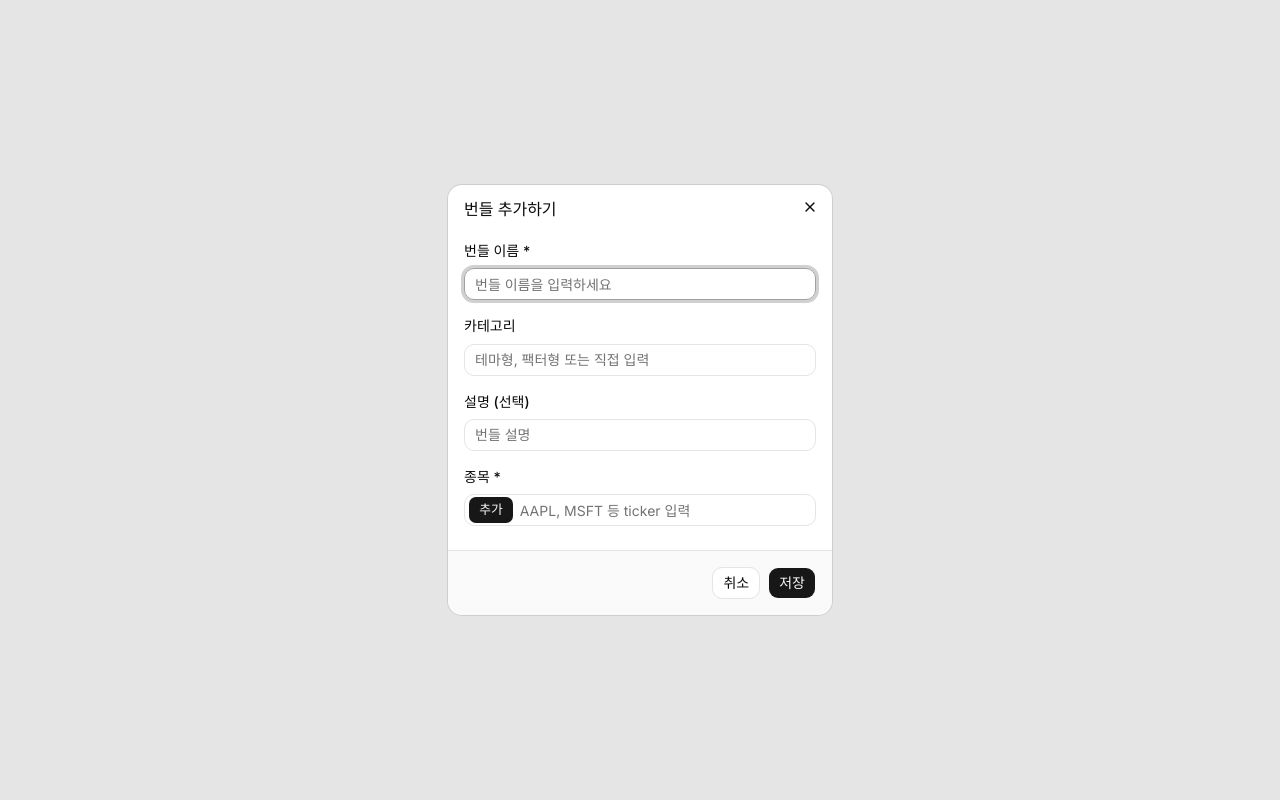
Scenario: CreateBundleDialog — 유효성 검사 › 종목이 1개 이하면 저장하면 안내 메시지가 표시된다
Type "내 번들" into the field with placeholder "번들 이름을 입력하세요" at (640, 284), box [464, 268, 816, 300]
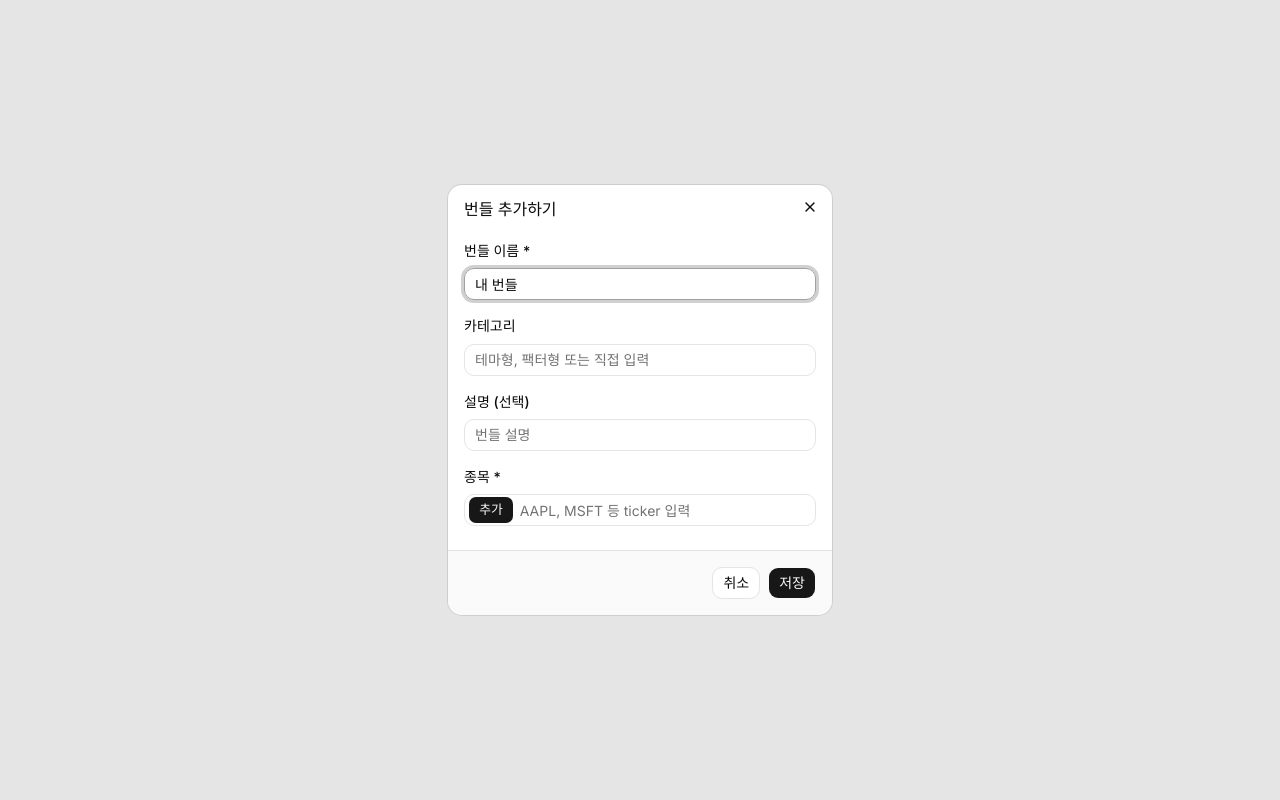
# 종목 1개 추가
Type "NVDA" into the field with placeholder "AAPL, MSFT 등 ticker 입력" at (664, 510), box [514, 494, 815, 526]
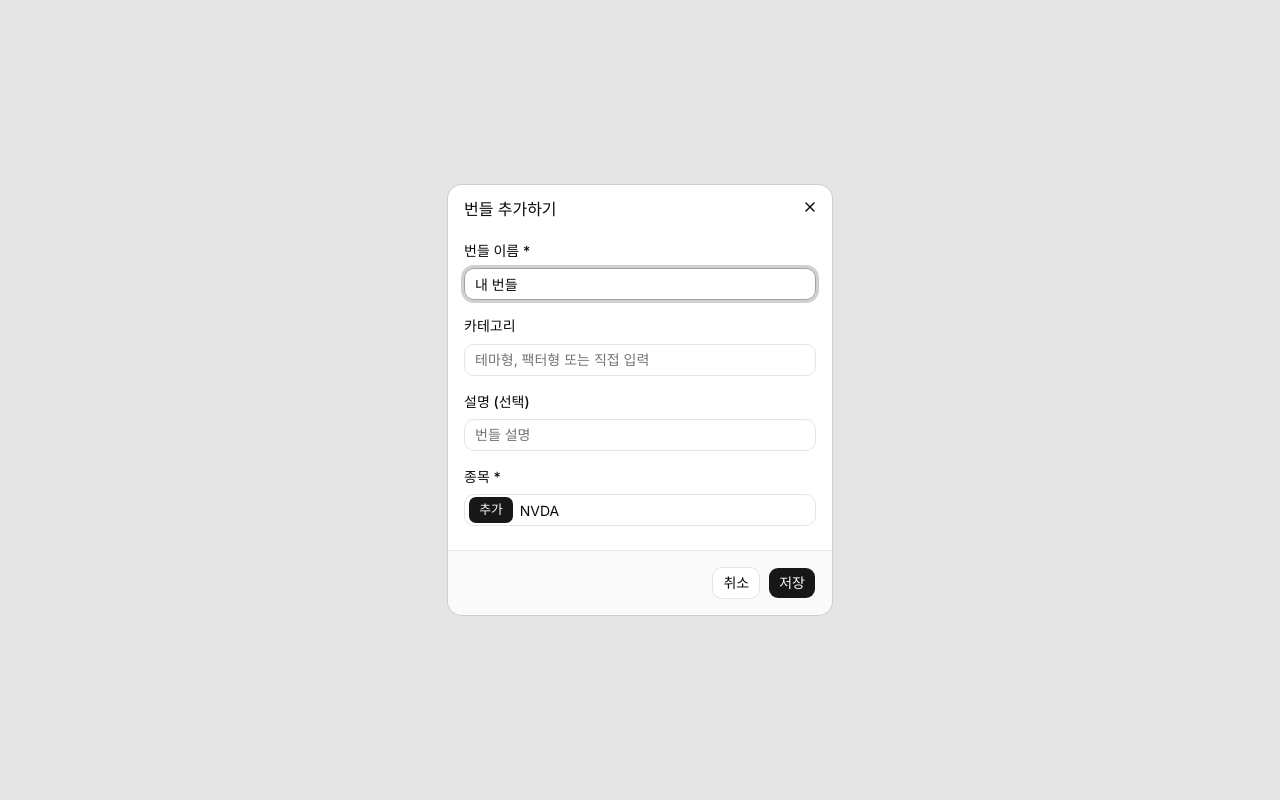
Click the button "추가" at (491, 510), box [468, 496, 514, 524]
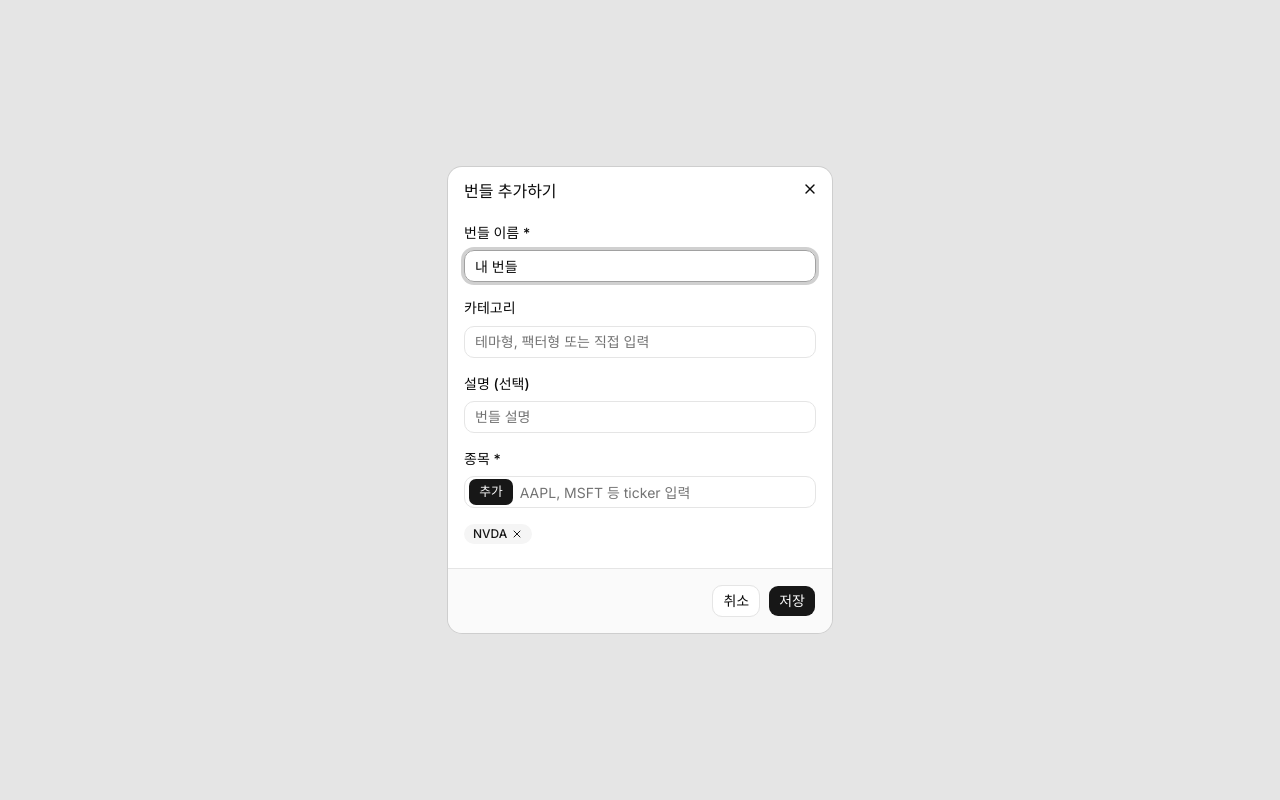
Click the button "저장" at (792, 601), box [768, 585, 816, 617]
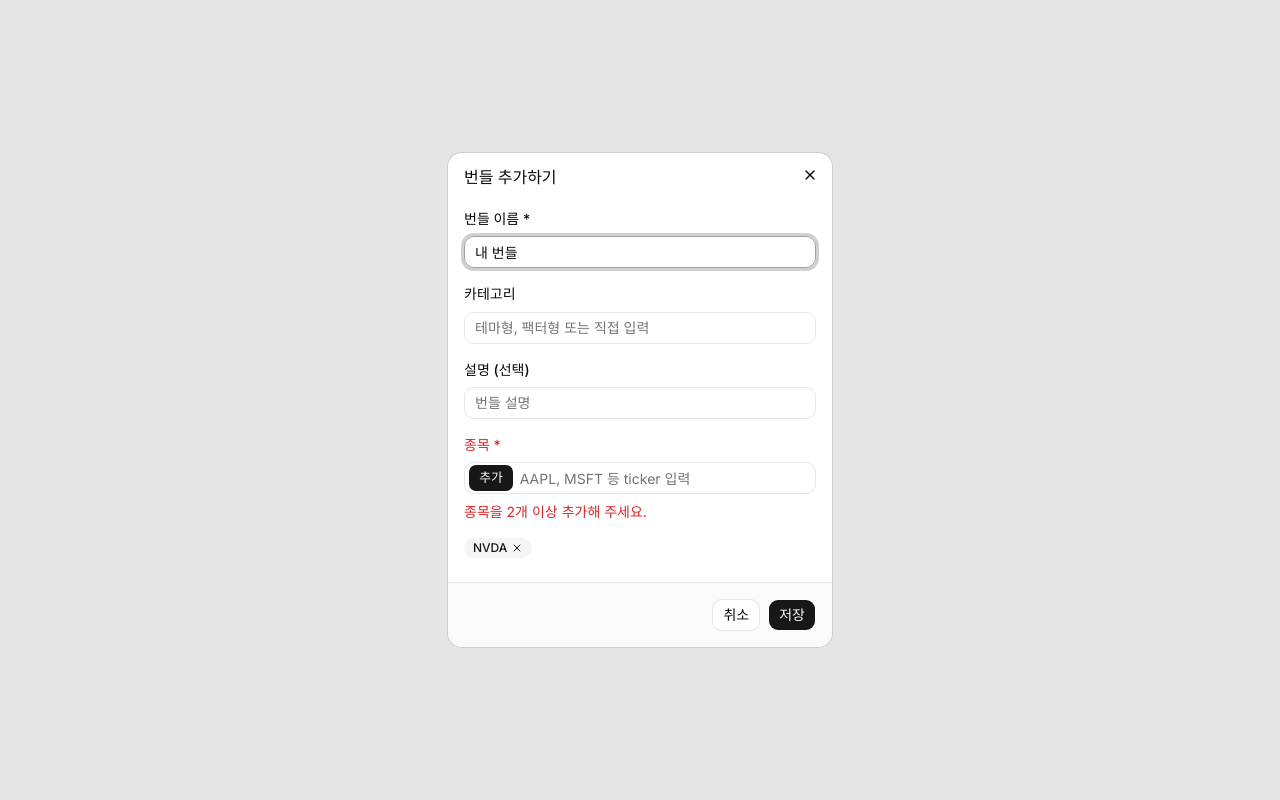
Check: the text "종목을 2개 이상 추가해 주세요." is shown, box [464, 503, 647, 520]
